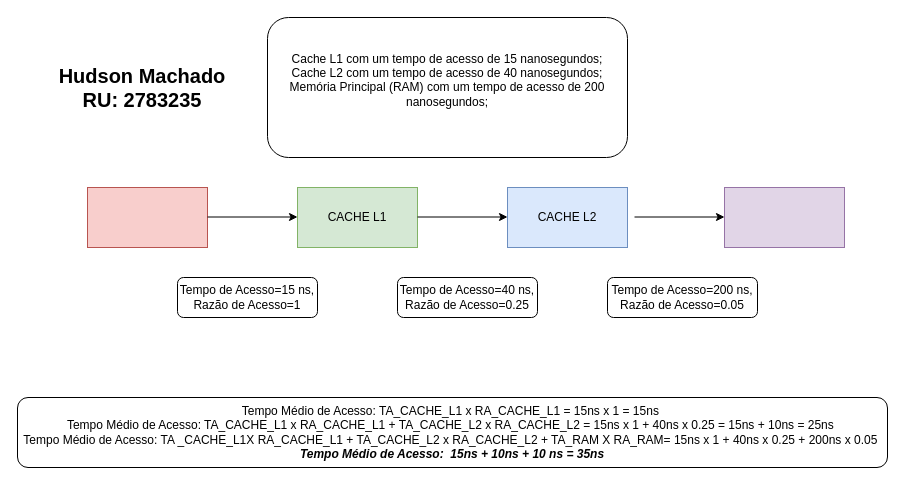
This 905x485 diagram has some shape labels left out. Each missing label, with the centre of its shape:
RAM: (784,217)
REG.: (147,217)
